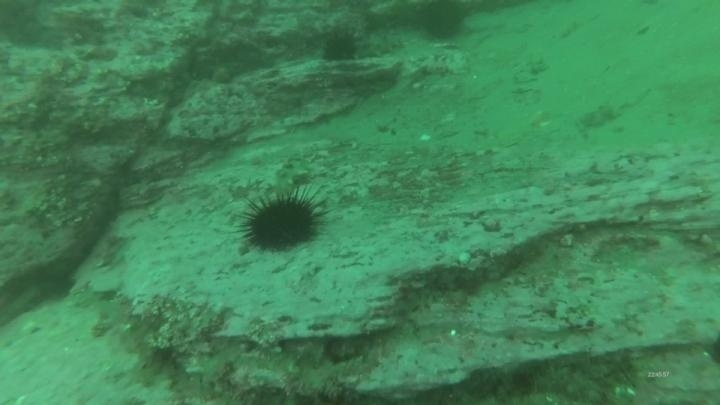echinus: (238, 186, 328, 255), (417, 1, 470, 44), (319, 28, 362, 66)
holothurian: (261, 155, 314, 201), (352, 28, 408, 62)
